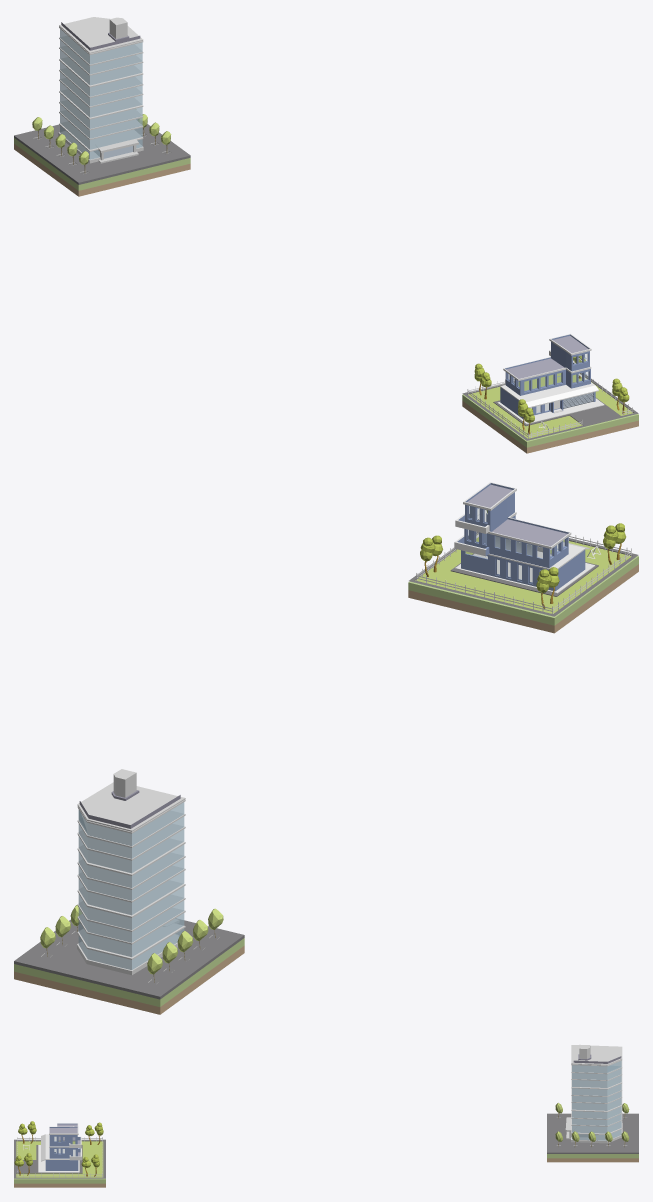
Rendered from quad-small-tiles.gltf.
3 views of the same model, one above another, from view 1: azimuth 30°, elevation 25°; view 2: azimuth 150°, elevation 25°; view 3: azimuth 270°, elevation 25° (orthographic). The views are drawn at different scales.
Visible parts, largest first — view 1: ID1767, ID1492, ID1617, ID1631, ID1625, ID408, ID1803, C_B_RES_7_TILE, ID1552, ID1535, C_B_COMM_3_TILE, ID304 (+16 smaller); view 2: ID1767, ID1492, ID1631, ID1617, ID1625, ID1803, C_B_RES_7_TILE, C_B_COMM_3_TILE, ID1535, ID1552, ID458, ID408 (+18 smaller); view 3: ID1767, ID1492, ID408, ID1803, ID1631, ID1617, ID1625, C_B_RES_7_TILE, C_B_COMM_3_TILE, ID1552, ID1535, ID1833 (+17 smaller).
Boxes of the visible parts, x1,y1,x2,y2 form: ID1767: [14, 119, 190, 184]; ID1492: [468, 373, 633, 438]; ID1617: [60, 40, 142, 85]; ID1631: [60, 72, 142, 117]; ID1625: [60, 104, 142, 149]; ID408: [462, 373, 638, 440]; ID1803: [59, 17, 143, 53]; C_B_RES_7_TILE: [462, 394, 638, 447]; ID1552: [14, 144, 190, 196]; ID1535: [462, 401, 638, 453]; C_B_COMM_3_TILE: [14, 138, 190, 190]; ID304: [500, 361, 598, 407]; ID1767: [14, 918, 244, 999]; ID1492: [415, 534, 631, 613]; ID1631: [78, 858, 184, 915]; ID1617: [78, 816, 184, 873]; ID1625: [78, 900, 184, 957]; ID1803: [77, 782, 185, 831]; C_B_RES_7_TILE: [408, 556, 638, 625]; C_B_COMM_3_TILE: [14, 938, 244, 1006]; ID1535: [408, 564, 638, 633]; ID1552: [14, 945, 244, 1014]; ID458: [461, 533, 585, 591]; ID408: [409, 532, 638, 616]; ID1767: [547, 1113, 638, 1153]; ID1492: [16, 1141, 103, 1177]; ID408: [14, 1139, 105, 1178]; ID1803: [571, 1045, 622, 1065]; ID1631: [572, 1091, 621, 1110]; ID1617: [572, 1068, 621, 1087]; ID1625: [572, 1114, 621, 1133]; C_B_RES_7_TILE: [14, 1178, 105, 1183]; C_B_COMM_3_TILE: [547, 1154, 638, 1158]; ID1552: [547, 1158, 638, 1162]; ID1535: [14, 1183, 105, 1187]; ID1833: [571, 1075, 622, 1089].
Bounding box in the file's own units: 1.65 × 1.2 × 6.8.
